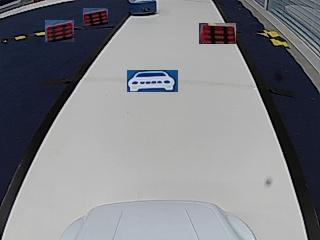prop: (129, 1, 156, 16)
